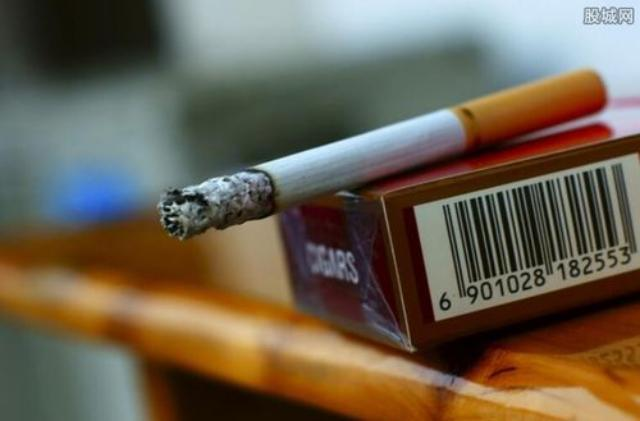Smoking: (158, 68, 608, 242)
